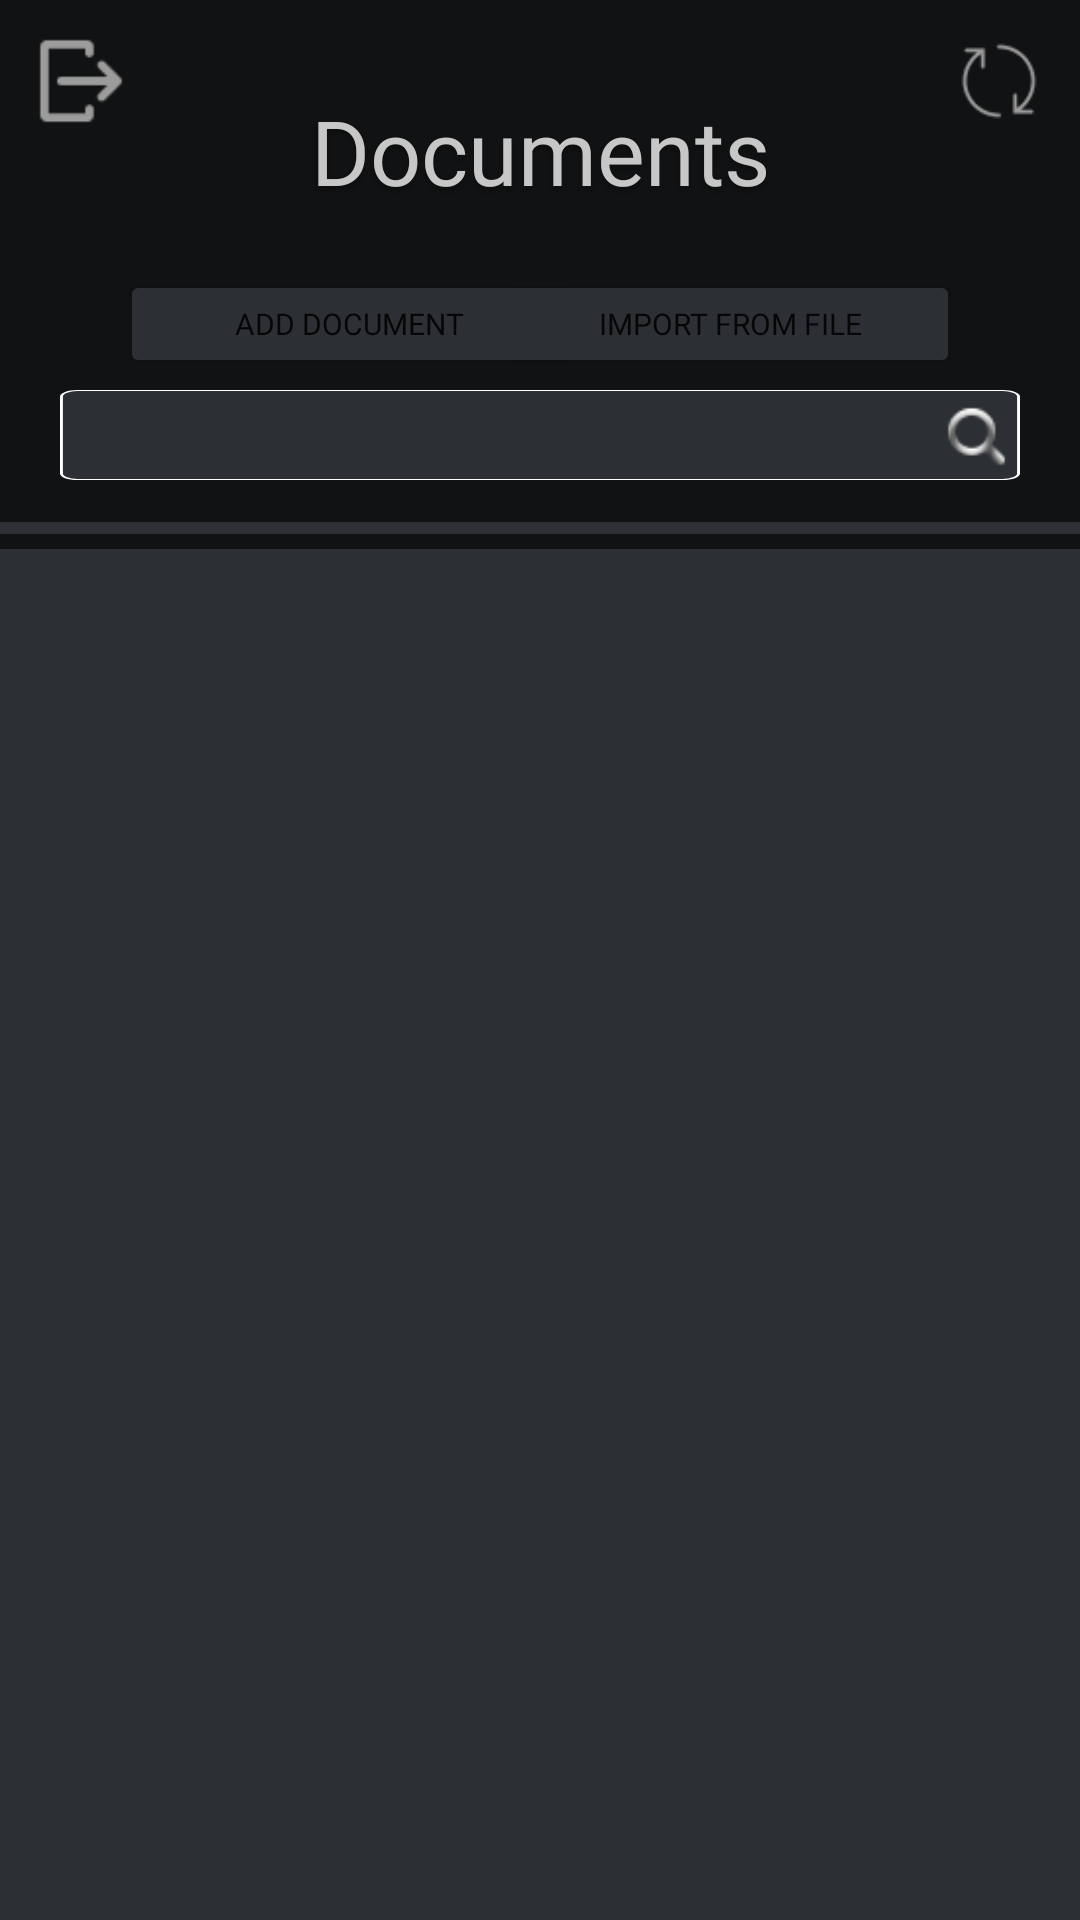

Where to tap for icons on this 1080×1920 app screen, as (x,y):
search: (976,436)
synchronize: (999,81)
